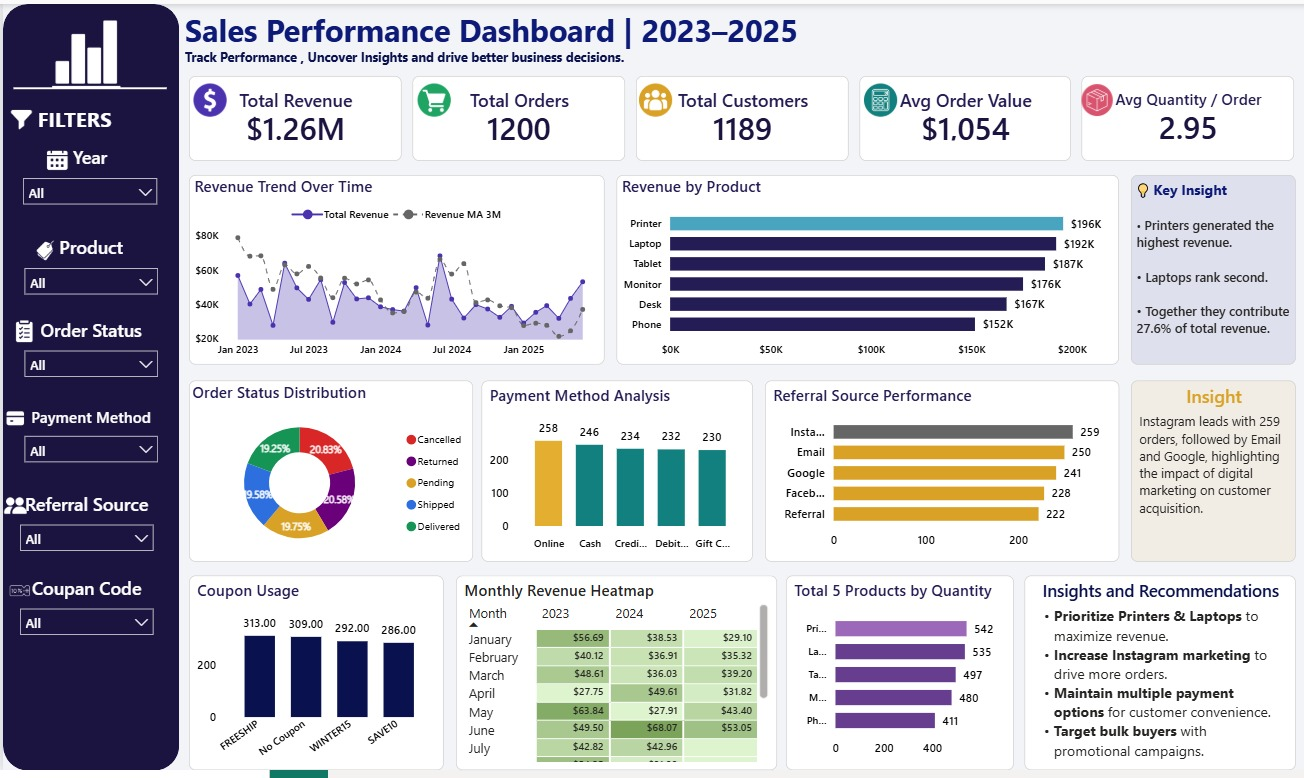

The page's visual inventory and layout, read from the dashboard file:
{"tool":"powerbi","page":{"name":"Sales Performance Dashboard","canvas":[1360,800],"ordinal":0},"visuals":[{"type":"shape","box":[0,0,184.1,800.6],"z":0},{"type":"textbox","box":[184.1,0,719,71.2],"z":1000},{"type":"textbox","box":[184.1,40.9,599.6,29.9],"z":2000},{"type":"card","title":"Total Revenue","fields":{"Values":["Measures Table.Total Revenue"]},"box":[194.5,74.7,222,88.6],"z":3000},{"type":"card","title":"Total Orders","fields":{"Values":["Measures Table.Total Orders"]},"box":[427.9,74.7,222,88.6],"z":4000},{"type":"card","title":"Avg Order Value","fields":{"Values":["Measures Table.Avg Order Value"]},"box":[895.1,74.7,220.6,88.6],"z":5000},{"type":"card","title":"Total Customers","fields":{"Values":["Measures Table.Total Customers"]},"box":[661.4,74.7,222.3,88.6],"z":6000},{"type":"card","title":"Avg Quantity / Order","fields":{"Values":["Measures Table.Avg Quantity per Order"]},"box":[1127.1,74.7,222.3,88.6],"z":7000},{"type":"areaChart","title":"Revenue Trend Over Time","fields":{"Category":["Calendar.Year-Month"],"Y":["Measures Table.Total Revenue"],"Y2":["Measures Table.Revenue MA 3M"]},"box":[194.5,178.9,434.2,198],"z":8000},{"type":"clusteredBarChart","title":"Revenue by Product","fields":{"Category":["Orders.Product"],"Y":["Measures Table.Total Revenue"]},"box":[640.8,178.9,524.5,198],"z":9000},{"type":"donutChart","title":"Order Status  Distribution","fields":{"Category":["Orders.OrderStatus"],"Y":["Measures Table.Total Orders"]},"box":[194.5,392.5,297,189.3],"z":10000},{"type":"clusteredColumnChart","title":"Coupon Usage","fields":{"Category":["Orders.CouponCode"],"Y":["Measures Table.Total Orders"]},"box":[194.5,597.4,265.7,203.2],"z":11000},{"type":"columnChart","title":"Payment Method Analysis","fields":{"Category":["Orders.PaymentMethod"],"Y":["Measures Table.Total Orders"]},"box":[500.2,392.5,283.1,189.3],"z":12000},{"type":"barChart","title":"Referral Source Performance","fields":{"Category":["Orders.ReferralSource"],"Y":["Measures Table.Total Orders"]},"box":[795.4,393.4,369.7,189.2],"z":13000},{"type":"pivotTable","title":"Monthly Revenue Heatmap","fields":{"Columns":["Calendar.Year"],"Rows":["Calendar.Month"],"Values":["Measures Table.Revenue (K)"]},"box":[472.4,597.4,335.2,203.2],"z":14000},{"type":"barChart","title":"Total 5 Products by Quantity","fields":{"Category":["Orders.Product"],"Y":["Measures Table.Total Quantity"]},"box":[818,597.4,237.9,203.2],"z":15000},{"type":"textbox","title":"Insight","box":[1177.5,178.9,171.9,198],"z":16000},{"type":"textbox","title":"Insight","box":[1178,393.4,172,189.2],"z":17000},{"type":"textbox","title":"Insights and Recommendations ","box":[1066.3,597.4,283.1,203.2],"z":18000},{"type":"shape","box":[10.7,74.7,160,25.6],"z":19000},{"type":"textbox","box":[32,100.3,140.8,46.9],"z":20000},{"type":"slicer","title":"Year","fields":{"Values":["Calendar.Year"]},"box":[10.7,147.2,160,72],"z":21000},{"type":"slicer","title":"Product","fields":{"Values":["Orders.Product"]},"box":[12.9,240.8,159.1,73.1],"z":22000},{"type":"slicer","title":"Order Status","fields":{"Values":["Orders.OrderStatus"]},"box":[12.9,326.7,159.1,73.1],"z":23000},{"type":"slicer","title":"Payment Method","fields":{"Values":["Orders.PaymentMethod"]},"box":[12.9,419.2,159.1,68.8],"z":24000},{"type":"slicer","title":"Referral Source","fields":{"Values":["Orders.ReferralSource"]},"box":[8.6,509.5,159.1,73.1],"z":25000},{"type":"slicer","title":"Coupan  Code","fields":{"Values":["Orders.CouponCode"]},"box":[8.6,597.6,159.1,73.1],"z":26000},{"type":"image","box":[6.9,99.5,25.7,42.9],"z":27000},{"type":"image","box":[0,17.2,174.1,70.9],"z":28000},{"type":"image","box":[45.2,142.4,22.6,41.7],"z":29000},{"type":"image","box":[1.7,411.6,22.6,41.7],"z":30000},{"type":"image","box":[10.4,321.3,22.6,41.7],"z":31000},{"type":"image","box":[33,236.2,22.6,41.7],"z":32000},{"type":"image","box":[0,503.6,26,41.7],"z":33000},{"type":"image","box":[6.9,592.2,22.6,41.7],"z":34000},{"type":"image","box":[194.5,83.4,43.4,34.7],"z":35000},{"type":"image","box":[894.4,83.4,43.4,34.7],"z":36000},{"type":"image","box":[659.9,83.4,43.4,34.7],"z":37000},{"type":"image","box":[427.2,83.4,45.2,34.7],"z":38000},{"type":"image","box":[1127.1,83.4,33,34.7],"z":39000}]}

Visuals, with their boxes in screenshot pixels (x1, y1, x2, y2), scaled from the page's 1360x800 canvas onto the 1304x778 screenshot:
shape: (x1=0, y1=0, x2=177, y2=777)
textbox: (x1=177, y1=0, x2=866, y2=69)
textbox: (x1=177, y1=40, x2=751, y2=69)
"Total Revenue" card: (x1=186, y1=73, x2=399, y2=159)
"Total Orders" card: (x1=410, y1=73, x2=623, y2=159)
"Avg Order Value" card: (x1=858, y1=73, x2=1070, y2=159)
"Total Customers" card: (x1=634, y1=73, x2=847, y2=159)
"Avg Quantity / Order" card: (x1=1081, y1=73, x2=1294, y2=159)
"Revenue Trend Over Time" areaChart: (x1=186, y1=174, x2=603, y2=367)
"Revenue by Product" clusteredBarChart: (x1=614, y1=174, x2=1117, y2=367)
"Order Status  Distribution" donutChart: (x1=186, y1=382, x2=471, y2=566)
"Coupon Usage" clusteredColumnChart: (x1=186, y1=581, x2=441, y2=777)
"Payment Method Analysis" columnChart: (x1=480, y1=382, x2=751, y2=566)
"Referral Source Performance" barChart: (x1=763, y1=383, x2=1117, y2=567)
"Monthly Revenue Heatmap" pivotTable: (x1=453, y1=581, x2=774, y2=777)
"Total 5 Products by Quantity" barChart: (x1=784, y1=581, x2=1012, y2=777)
"Insight" textbox: (x1=1129, y1=174, x2=1294, y2=367)
"Insight" textbox: (x1=1129, y1=383, x2=1294, y2=567)
"Insights and Recommendations " textbox: (x1=1022, y1=581, x2=1294, y2=777)
shape: (x1=10, y1=73, x2=164, y2=98)
textbox: (x1=31, y1=98, x2=166, y2=143)
"Year" slicer: (x1=10, y1=143, x2=164, y2=213)
"Product" slicer: (x1=12, y1=234, x2=165, y2=305)
"Order Status" slicer: (x1=12, y1=318, x2=165, y2=389)
"Payment Method" slicer: (x1=12, y1=408, x2=165, y2=475)
"Referral Source" slicer: (x1=8, y1=495, x2=161, y2=567)
"Coupan  Code" slicer: (x1=8, y1=581, x2=161, y2=652)
image: (x1=7, y1=97, x2=31, y2=138)
image: (x1=0, y1=17, x2=167, y2=86)
image: (x1=43, y1=138, x2=65, y2=179)
image: (x1=2, y1=400, x2=23, y2=441)
image: (x1=10, y1=312, x2=32, y2=353)
image: (x1=32, y1=230, x2=53, y2=270)
image: (x1=0, y1=490, x2=25, y2=530)
image: (x1=7, y1=576, x2=28, y2=616)
image: (x1=186, y1=81, x2=228, y2=115)
image: (x1=858, y1=81, x2=899, y2=115)
image: (x1=633, y1=81, x2=674, y2=115)
image: (x1=410, y1=81, x2=453, y2=115)
image: (x1=1081, y1=81, x2=1112, y2=115)
